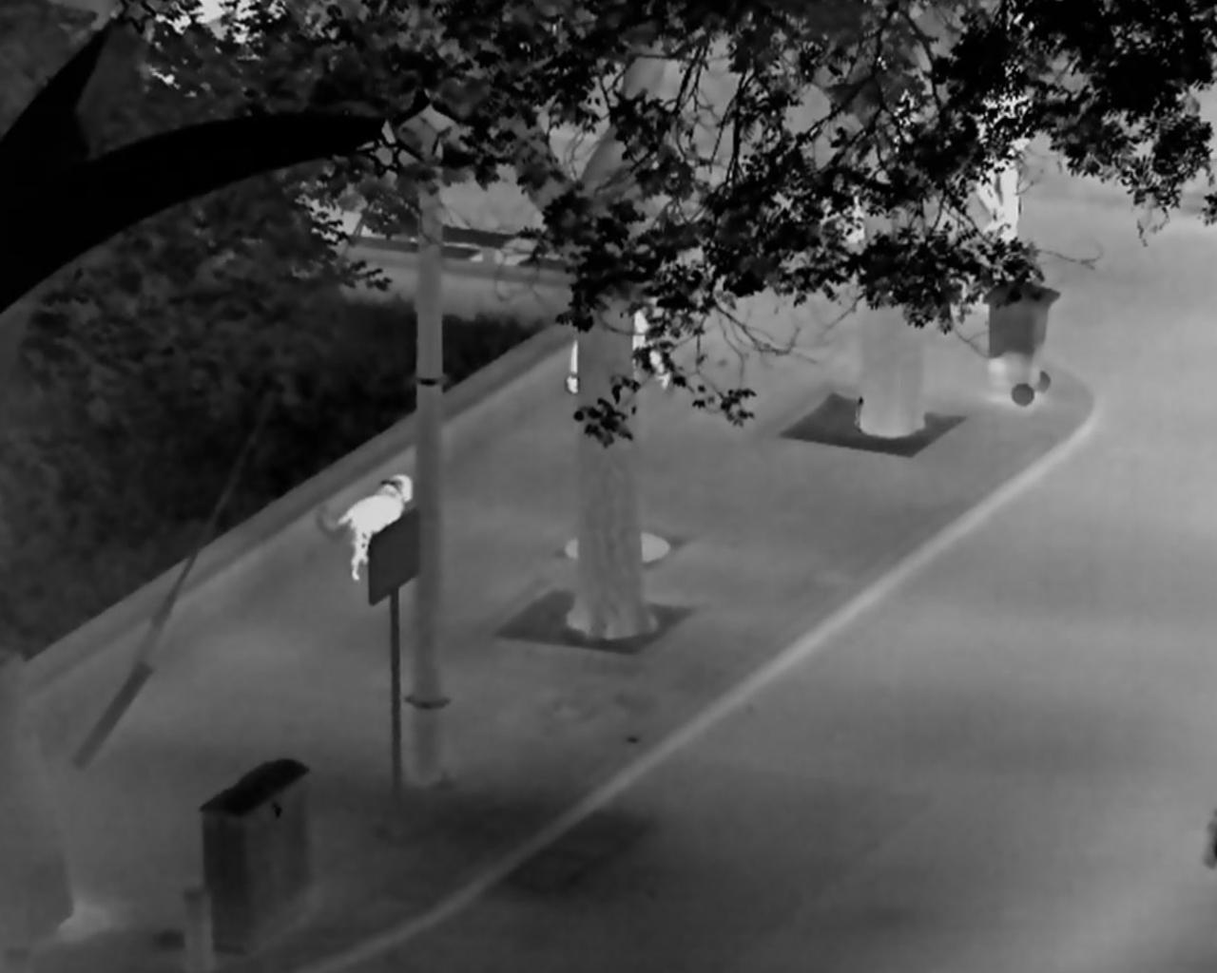person: (567, 270, 671, 409), (971, 58, 1029, 242)
